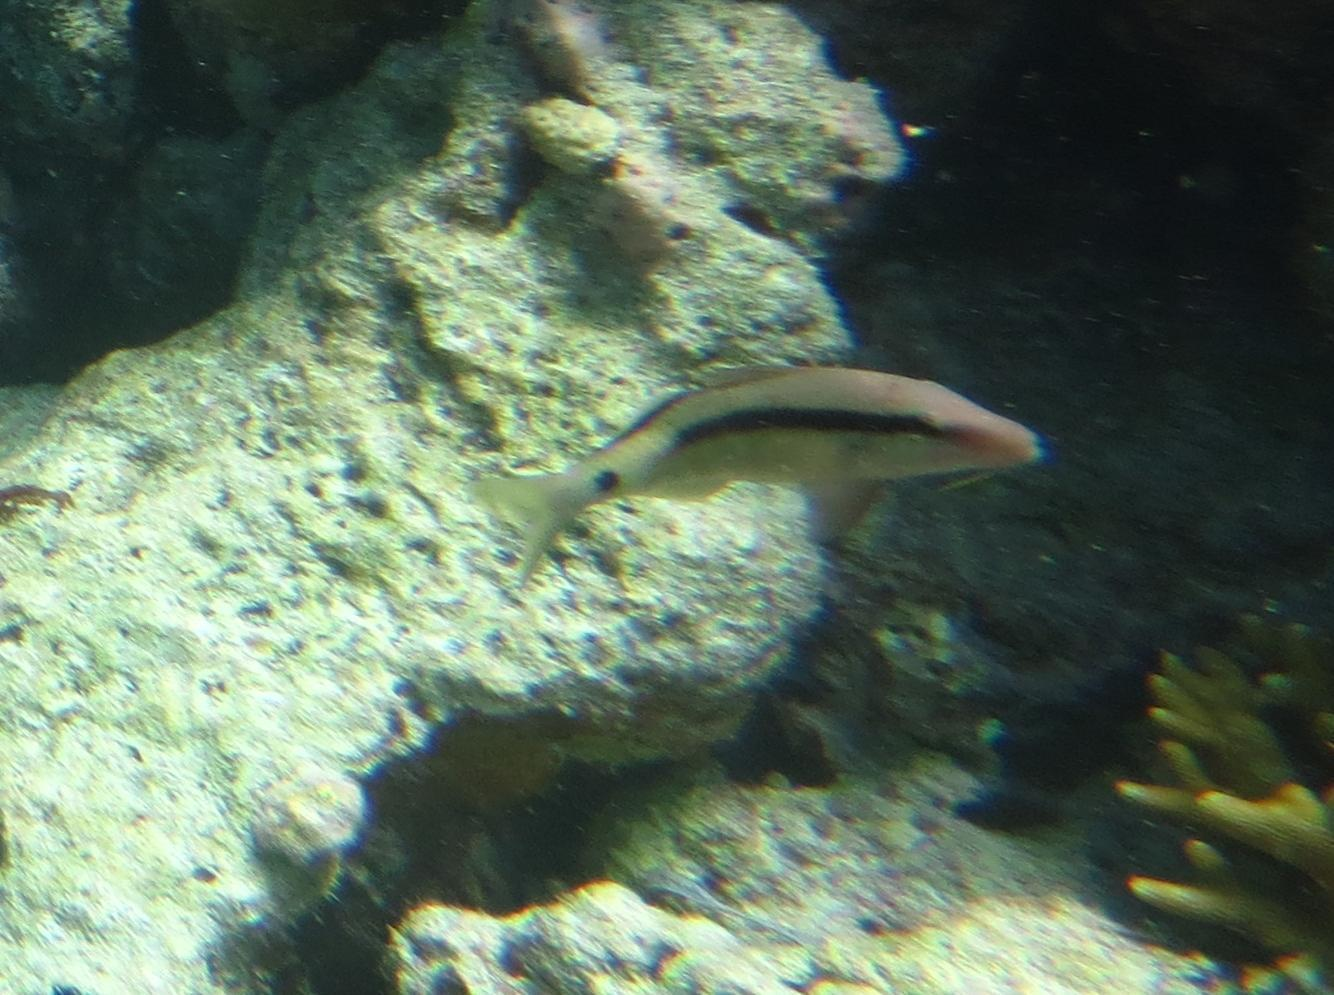Fish: (485, 348, 1078, 652)
